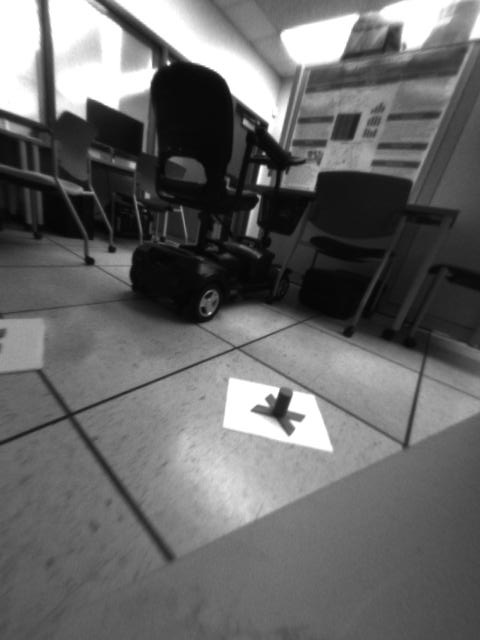X: (252, 384, 308, 436)
